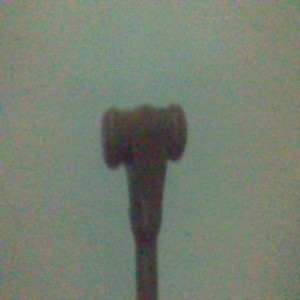palu: (100, 101, 188, 300)
